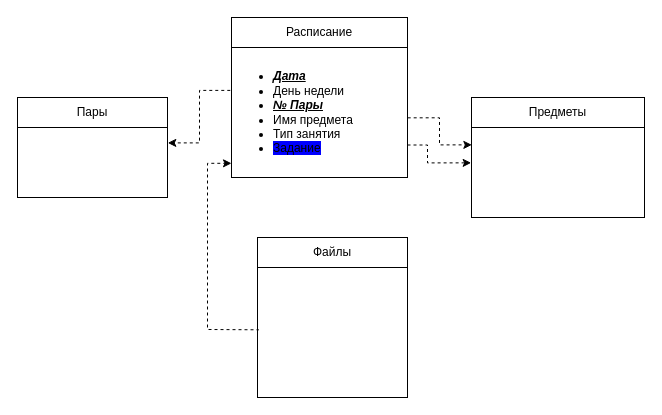
Image size: 662x415. Some labels were removed from this diagram. The shapes that lost their labels are listed below. From the top down, each one's centre as x and y in pixels, then its label:
the point at 92,162: № Пары Время начала Время конца
the point at 557,172: Имя предмета Тип занятия Преподаватель Место проведения
the point at 332,332: Название файла Читаемое название Задание Имя предмета Ссылка
